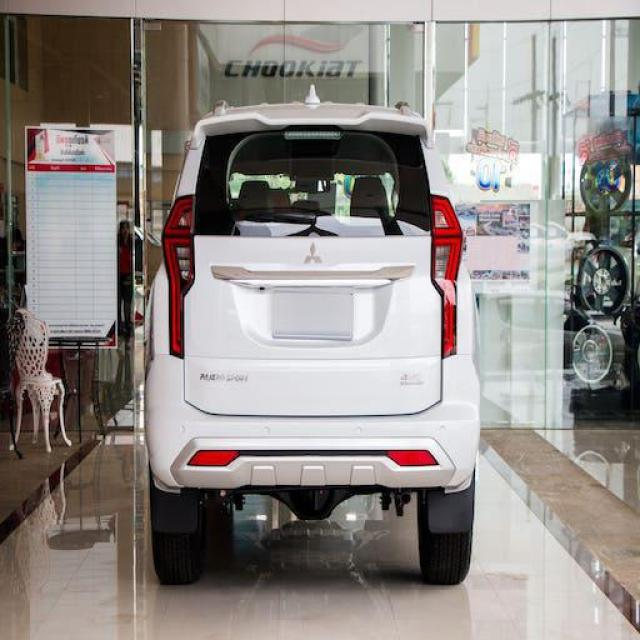back_bumper: (146, 353, 481, 489)
back_glass: (194, 130, 432, 238)
back_left_light: (163, 193, 197, 363)
back_right_light: (431, 193, 466, 360)
trunk: (183, 232, 444, 416)
wheel: (417, 490, 472, 582), (152, 499, 204, 586)
